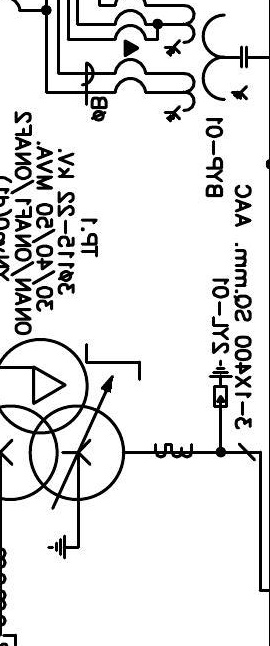115_cvt_3p: (163, 3, 248, 123)
115_la: (208, 359, 234, 408)
